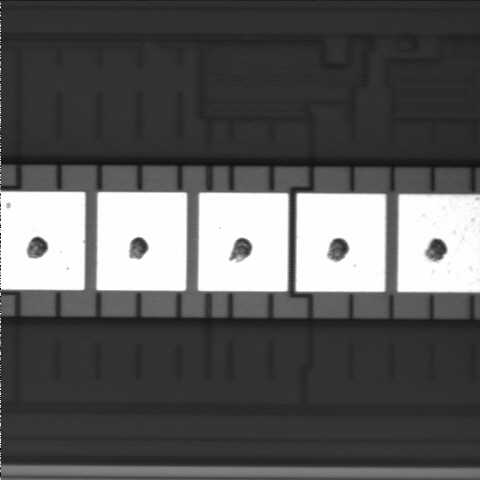pad: (97, 192, 187, 291), (198, 193, 288, 291), (296, 194, 386, 292)
